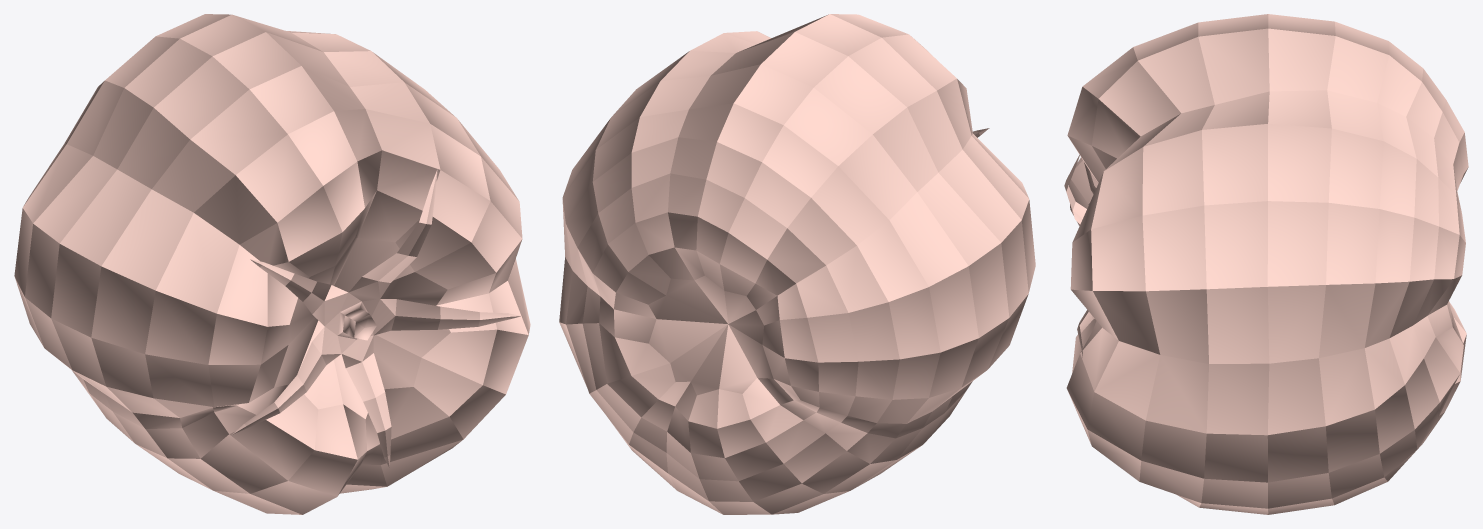
File: MeshTomatoA8Mesh_0.obj
The picture shows the model from 3 angles, left to right: view 1: azimuth 30°, elevation 25°; view 2: azimuth 150°, elevation 25°; view 3: azimuth 270°, elevation 25°; orthographic projection.
Visible parts, largest first — view 1: TomatoA8Mesh; view 2: TomatoA8Mesh; view 3: TomatoA8Mesh.
Boxes of the visible parts, bbox=[...] form: TomatoA8Mesh: bbox=[14, 14, 530, 514]; TomatoA8Mesh: bbox=[559, 14, 1035, 514]; TomatoA8Mesh: bbox=[1064, 14, 1468, 514].
Bounding box in the file's own units: 0.1056 × 0.1096 × 0.0869.
